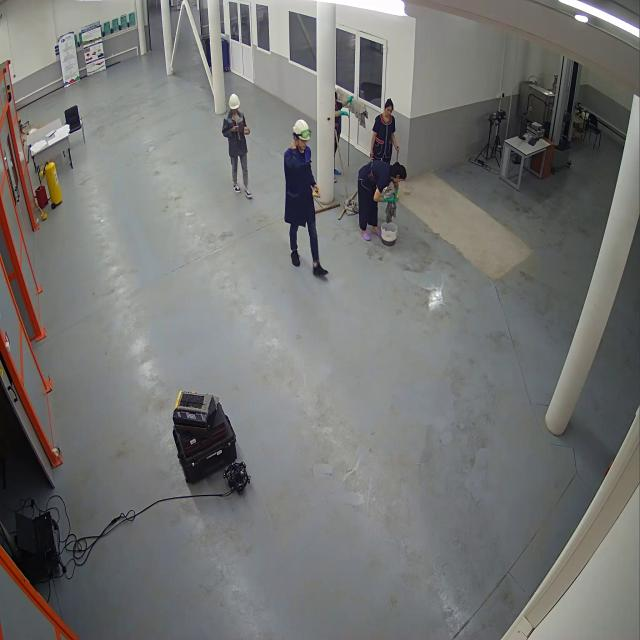Hardhat: (292, 120, 310, 143), (228, 93, 242, 114)
NO-Hardhat: (397, 163, 408, 181), (384, 98, 394, 112)
Person: (282, 119, 331, 279), (358, 150, 407, 239), (222, 89, 258, 201), (368, 96, 403, 160), (334, 88, 354, 188)
